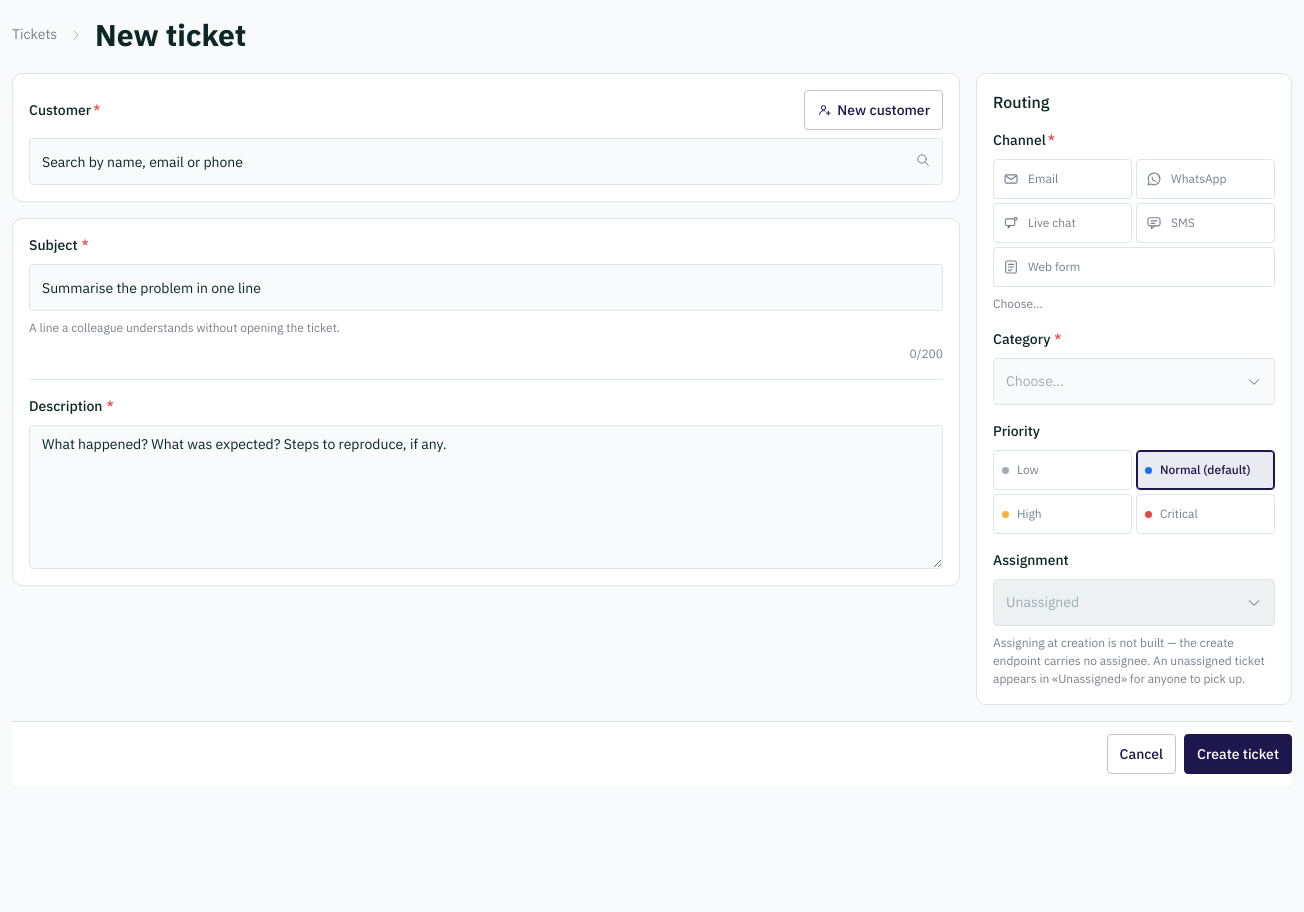
it: AC-2, AC-3 — validation starts at submit, then goes live › clears one field’s error as it is corrected, without a second submit
This screenshot has width=1304, height=912.
Click the button "Create ticket" at (1238, 754), box [1184, 734, 1292, 774]
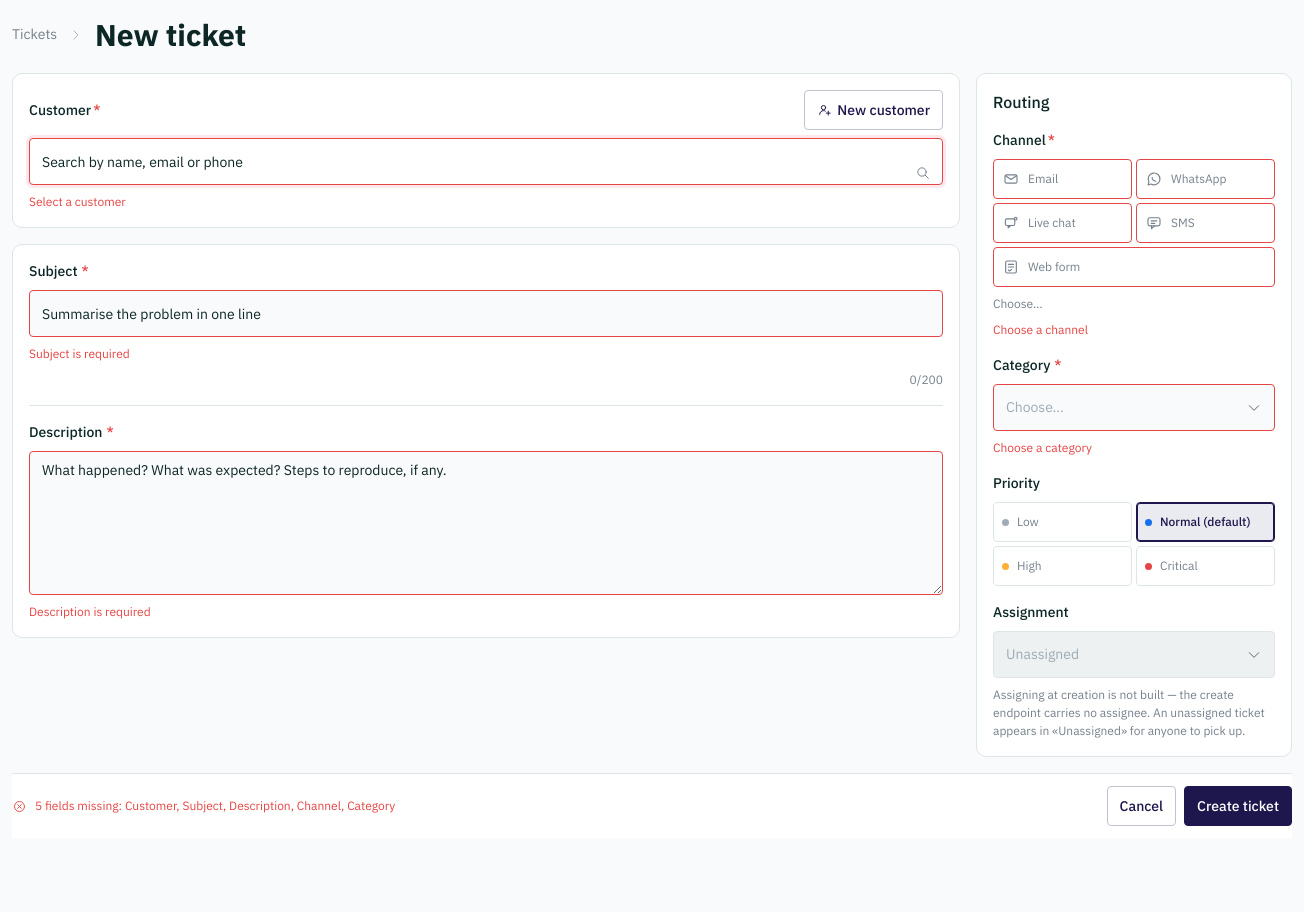
Check: the text "Subject is required" is shown, box [29, 346, 130, 361]
Type "A subject" into the field labelled "Subject" at (486, 314), box [29, 290, 943, 337]
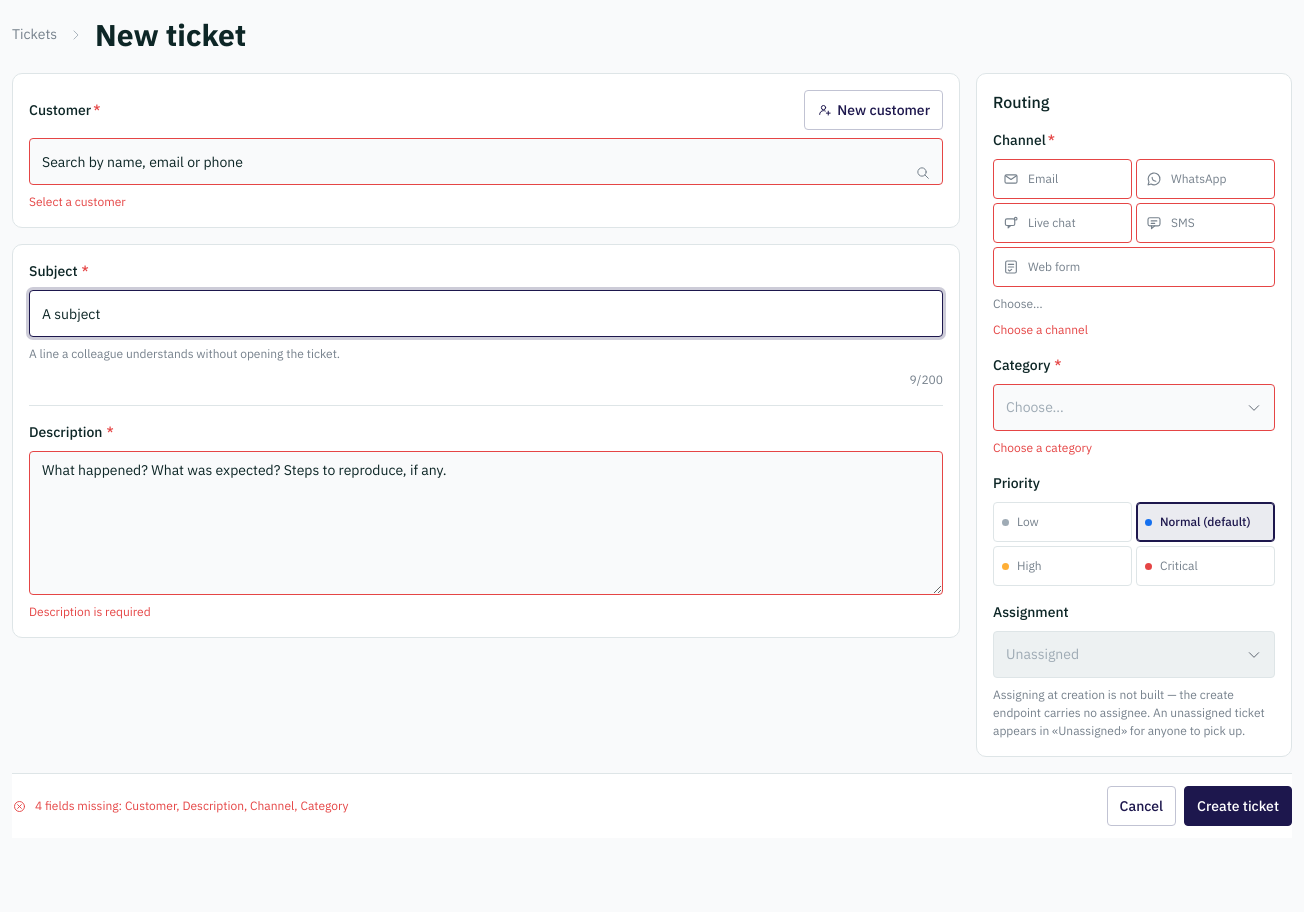
Check: the text "Description is required" is shown, box [29, 604, 151, 619]
Check: the text "Subject is required" is gone
